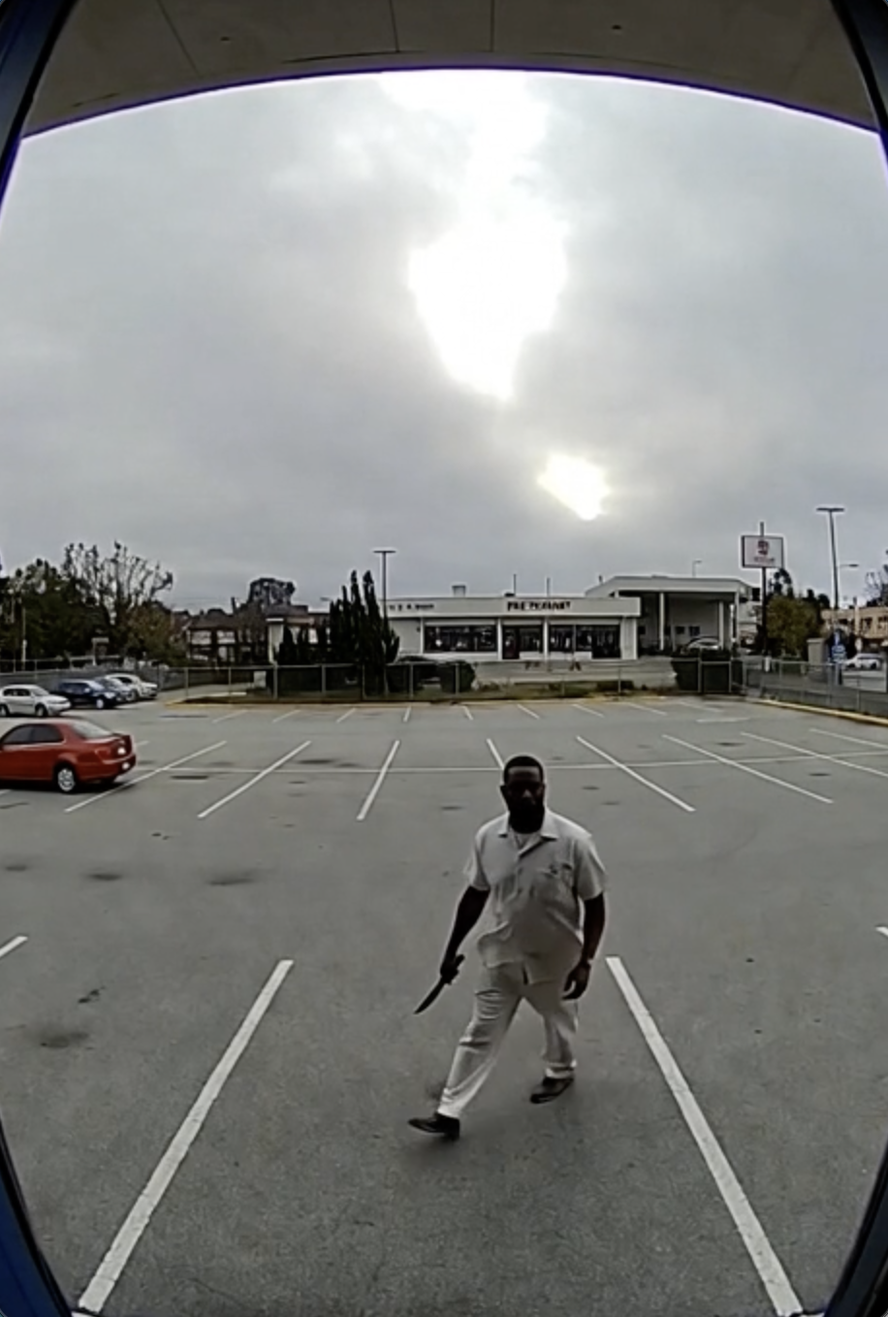Heavy Gun: (415, 741, 611, 1139)
Knife: (410, 946, 475, 1017)
